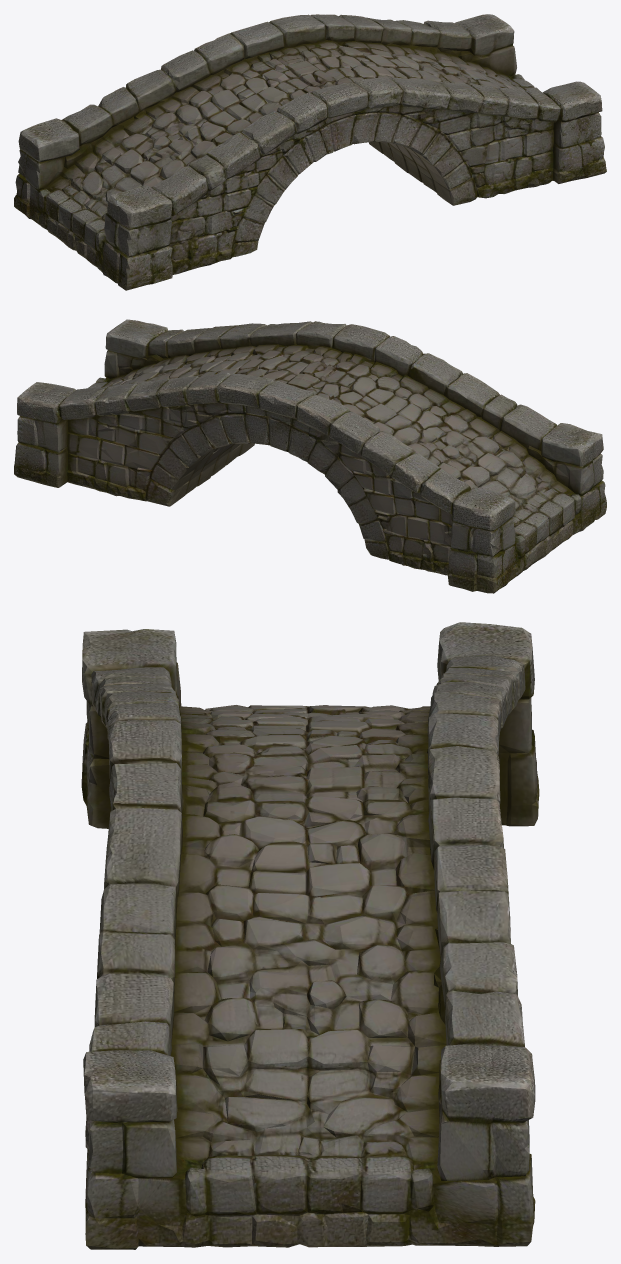
File: bld_bridge_stone_a_LOD0.glb
3 renders of one model, top to bottom at view 1: azimuth 30°, elevation 25°; view 2: azimuth 150°, elevation 25°; view 3: azimuth 270°, elevation 25°, orthographic. The views are drawn at different scales.
Parts seen in each view (by area): view 1: tripo_mesh_5f9a4a64-db13-4c13-8f55-eb82f713a8fd; view 2: tripo_mesh_5f9a4a64-db13-4c13-8f55-eb82f713a8fd; view 3: tripo_mesh_5f9a4a64-db13-4c13-8f55-eb82f713a8fd.
Part boxes in pixels (<box>): tripo_mesh_5f9a4a64-db13-4c13-8f55-eb82f713a8fd: <box>14,14,606,290</box>; tripo_mesh_5f9a4a64-db13-4c13-8f55-eb82f713a8fd: <box>14,319,606,593</box>; tripo_mesh_5f9a4a64-db13-4c13-8f55-eb82f713a8fd: <box>81,622,539,1249</box>.
Size of the model in its own units: 8 by 2.28 by 3.29.
Materials: 1 (1 with a texture image).
